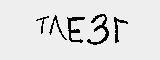Г: (112, 18, 130, 46)
Е: (65, 14, 87, 46)
З: (87, 12, 110, 46)
Л: (47, 15, 65, 41)
Т: (33, 15, 50, 36)
